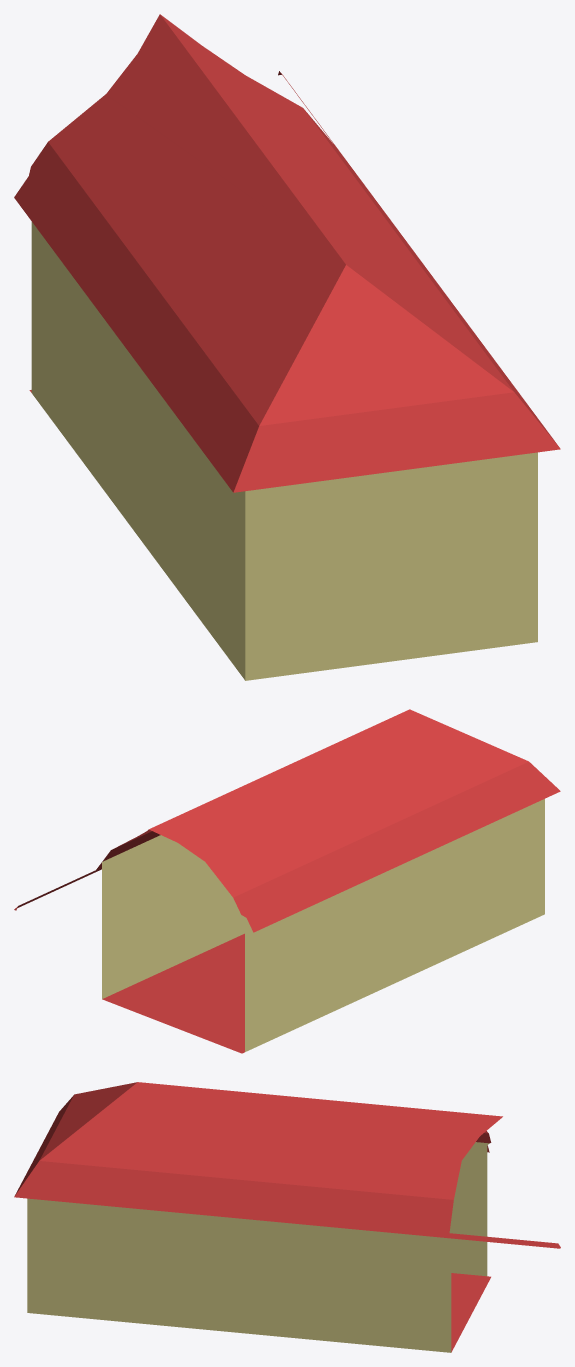
3 renders of one model, top to bottom at view 1: azimuth 30°, elevation 25°; view 2: azimuth 150°, elevation 25°; view 3: azimuth 270°, elevation 25°, orthographic. The views are drawn at different scales.
Size of the model in its own units: 21.88 by 36.98 by 15.03.
